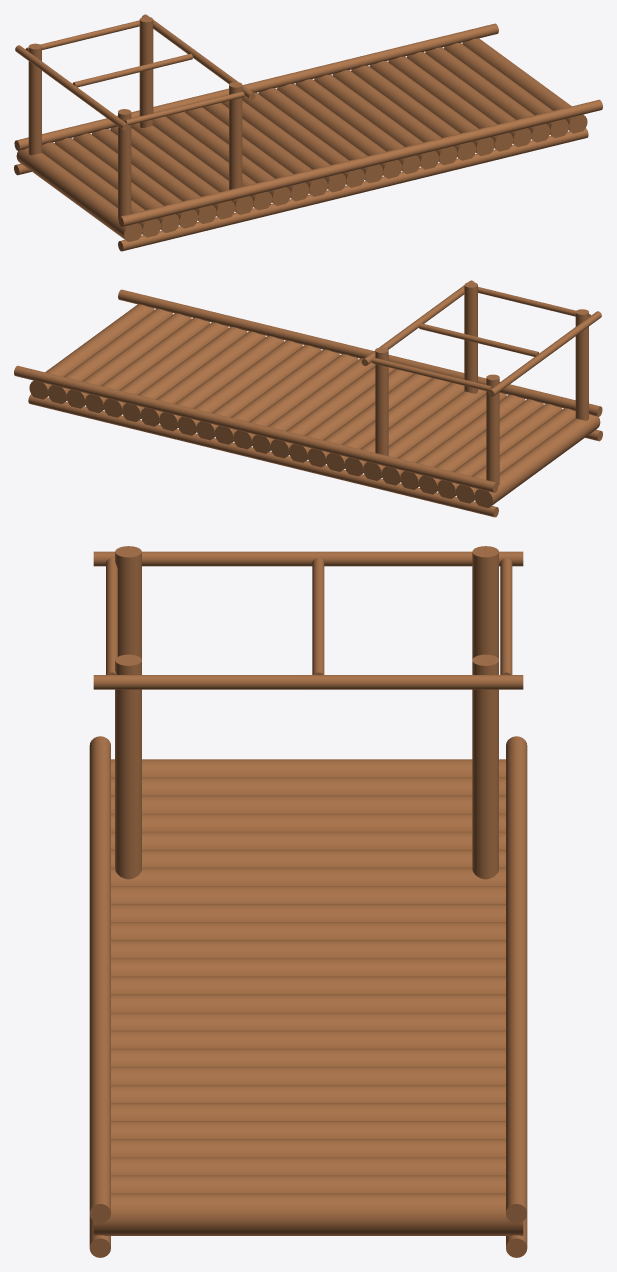
File: raft.fbx
The picture shows the model from 3 angles, top to bottom: view 1: azimuth 30°, elevation 25°; view 2: azimuth 150°, elevation 25°; view 3: azimuth 270°, elevation 25°; orthographic projection. The views are drawn at different scales.
Parts seen in each view (by area): view 1: pasted__pasted__pCylinder2 (×7), pasted__pasted__pasted__pCylinder2 (×7), pasted__pCylinder2 (×4), pasted__pasted__pasted__pasted__pCylinder2 (×4), pasted__pCylinder1, pasted__pasted__pCylinder1, pCylinder1, pasted__pasted__pasted__pasted__pasted__pasted__pCylinder2, pasted__pCylinder3 (×2), pCylinder2, pasted__pasted__pasted__pasted__pasted__pCylinder2, pasted__pasted__pCylinder3 (+6 smaller); view 2: pasted__pasted__pCylinder2 (×7), pasted__pasted__pasted__pCylinder2 (×7), pasted__pCylinder1 (×2), pasted__pCylinder2 (×4), pasted__pasted__pasted__pasted__pCylinder2 (×4), pasted__pasted__pCylinder1, pasted__pasted__pasted__pasted__pasted__pasted__pCylinder2, pasted__pCylinder3 (×2), pCylinder2, pasted__pasted__pasted__pasted__pasted__pCylinder2, pCylinder3, pasted__pasted__pCylinder3 (+5 smaller); view 3: pasted__pasted__pCylinder2 (×7), pasted__pasted__pasted__pCylinder2 (×7), pasted__pCylinder2 (×4), pasted__pasted__pasted__pasted__pCylinder2 (×4), pCylinder2, pasted__pCylinder1, pasted__pasted__pCylinder1, pasted__pCylinder3 (×2), pasted__pasted__pasted__pasted__pasted__pCylinder2, pasted__pasted__pasted__pasted__pasted__pasted__pCylinder2, pCylinder4, pasted__pCylinder4 (+5 smaller).
Boxes of the visible parts, x1=… form: pasted__pasted__pCylinder2 (×7): x1=131, y1=52, x2=531, y2=214; pasted__pasted__pasted__pCylinder2 (×7): x1=91, y1=61, x2=494, y2=223; pasted__pCylinder2 (×4): x1=242, y1=43, x2=568, y2=187; pasted__pasted__pasted__pasted__pCylinder2 (×4): x1=54, y1=88, x2=383, y2=232; pasted__pCylinder1: x1=118, y1=99, x2=602, y2=226; pasted__pasted__pCylinder1: x1=14, y1=23, x2=498, y2=150; pCylinder1: x1=118, y1=128, x2=588, y2=251; pasted__pasted__pasted__pasted__pasted__pasted__pCylinder2: x1=16, y1=148, x2=142, y2=241; pasted__pCylinder3 (×2): x1=28, y1=43, x2=242, y2=189; pCylinder2: x1=462, y1=38, x2=587, y2=133; pasted__pasted__pasted__pasted__pasted__pCylinder2: x1=42, y1=142, x2=160, y2=237; pasted__pasted__pCylinder3: x1=139, y1=16, x2=153, y2=127; pasted__pasted__pCylinder2 (×7): x1=85, y1=318, x2=486, y2=480; pasted__pasted__pasted__pCylinder2 (×7): x1=122, y1=327, x2=525, y2=489; pasted__pCylinder1 (×2): x1=28, y1=289, x2=602, y2=517; pasted__pCylinder2 (×4): x1=48, y1=309, x2=375, y2=453; pasted__pasted__pasted__pasted__pCylinder2 (×4): x1=233, y1=354, x2=562, y2=498; pasted__pasted__pCylinder1: x1=14, y1=365, x2=498, y2=492; pasted__pasted__pasted__pasted__pasted__pasted__pCylinder2: x1=474, y1=414, x2=600, y2=507; pasted__pCylinder3 (×2): x1=464, y1=282, x2=499, y2=485; pCylinder2: x1=29, y1=304, x2=154, y2=399; pasted__pasted__pasted__pasted__pasted__pCylinder2: x1=456, y1=408, x2=575, y2=503; pCylinder3: x1=575, y1=309, x2=588, y2=420; pasted__pasted__pCylinder3: x1=375, y1=347, x2=388, y2=455; pasted__pasted__pCylinder2 (×7): x1=111, y1=867, x2=505, y2=1157; pasted__pasted__pasted__pCylinder2 (×7): x1=111, y1=831, x2=505, y2=1120; pasted__pCylinder2 (×4): x1=111, y1=976, x2=505, y2=1193; pasted__pasted__pasted__pasted__pCylinder2 (×4): x1=111, y1=795, x2=505, y2=1012; pCylinder2: x1=93, y1=1193, x2=523, y2=1235; pasted__pCylinder1: x1=89, y1=736, x2=110, y2=1223; pasted__pasted__pCylinder1: x1=506, y1=736, x2=527, y2=1223; pasted__pCylinder3 (×2): x1=115, y1=546, x2=498, y2=879; pasted__pasted__pasted__pasted__pasted__pCylinder2: x1=111, y1=777, x2=505, y2=795; pasted__pasted__pasted__pasted__pasted__pasted__pCylinder2: x1=111, y1=759, x2=505, y2=777; pCylinder4: x1=93, y1=675, x2=523, y2=689; pasted__pCylinder4: x1=93, y1=551, x2=523, y2=566.
Size of the model in its own units: 10.31 by 2.7 by 4.08.
